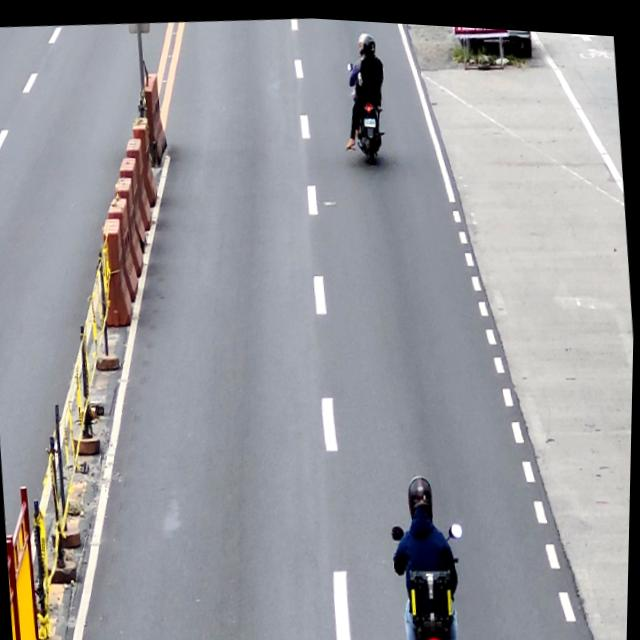License-Plate: (364, 112, 376, 124)
Motorcycle: (389, 509, 475, 640), (344, 54, 389, 164)
